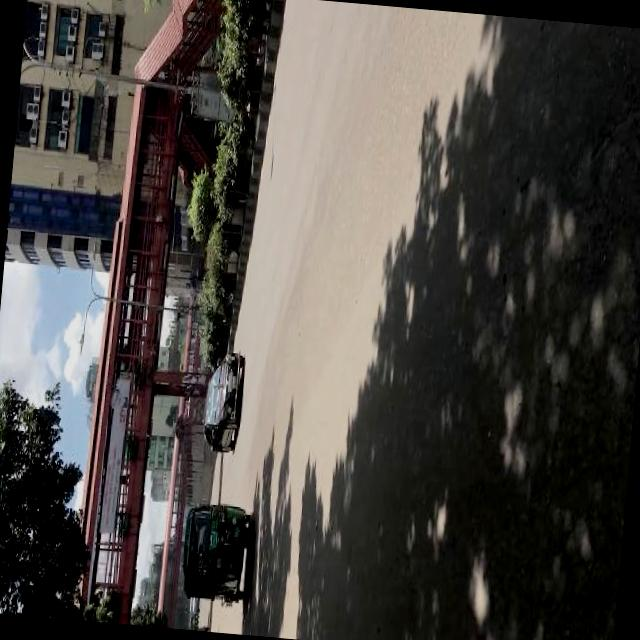car: (199, 340, 246, 456)
motorcycle: (176, 498, 258, 606)
